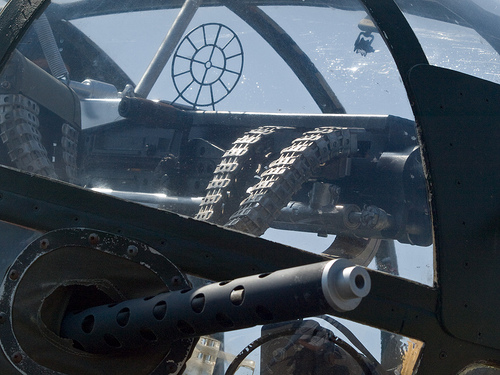rifle: (15, 150, 429, 359)
